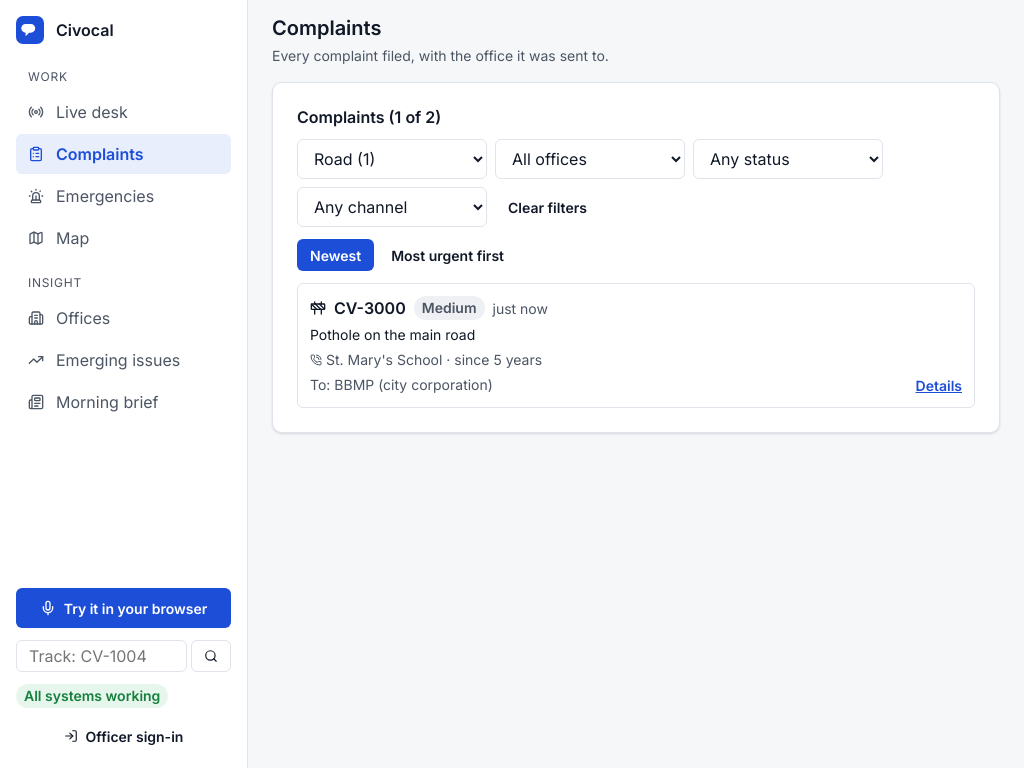
Test: opening a filtered link shows that view, and a filter nothing matches says so
Expected: the text "Pothole on the main road" is shown, [310,324,475,345]
Expected: the dropdown named "Category" shows "Road (1)", [297,139,487,179]
Select "BWSSB (water)" in the dropdown named "Office". click: (590, 159)
box: [495,139,685,179]
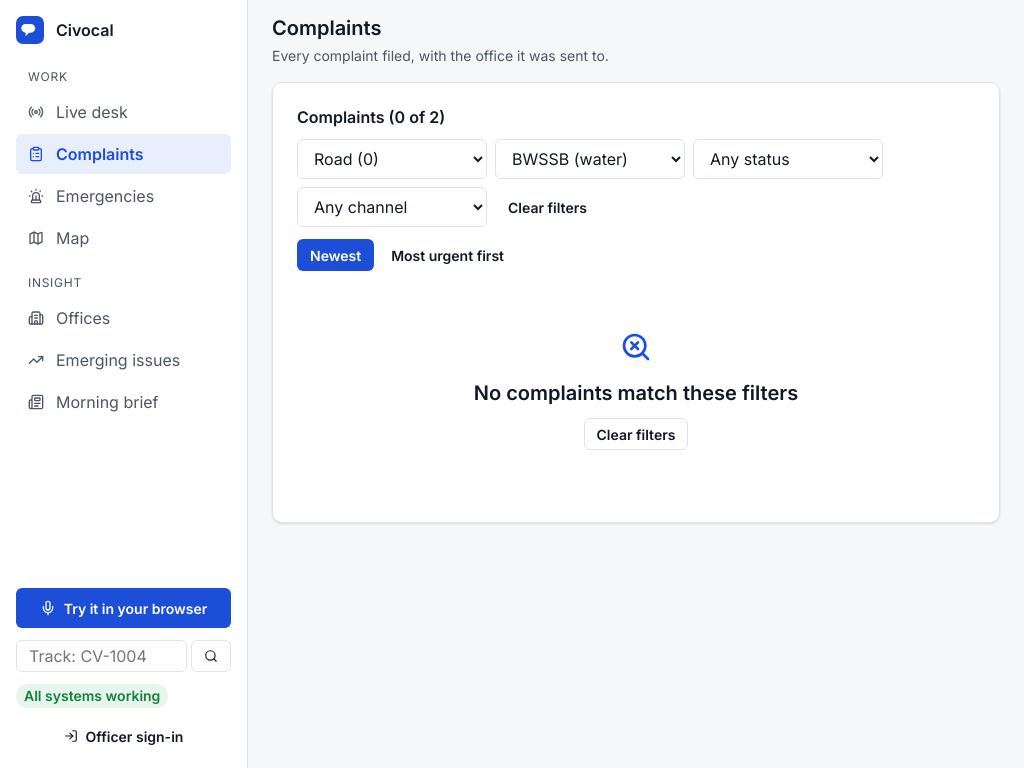
Now the heading "No complaints match these filters" is shown, box [474,381,798,406]
